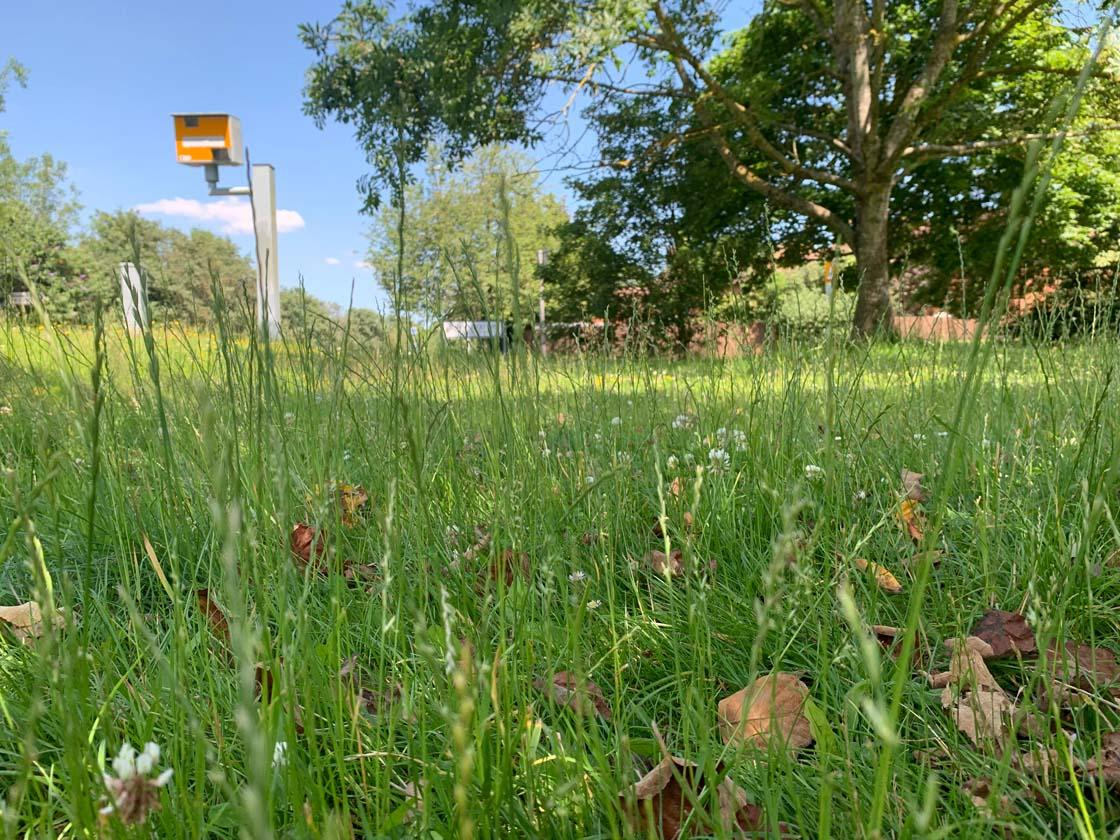overgrown grass: (0, 314, 1119, 839)
